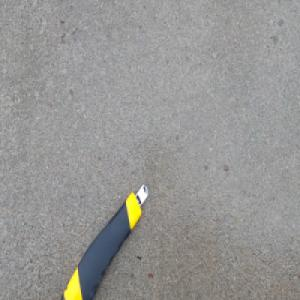Cutter: (60, 181, 151, 299)
